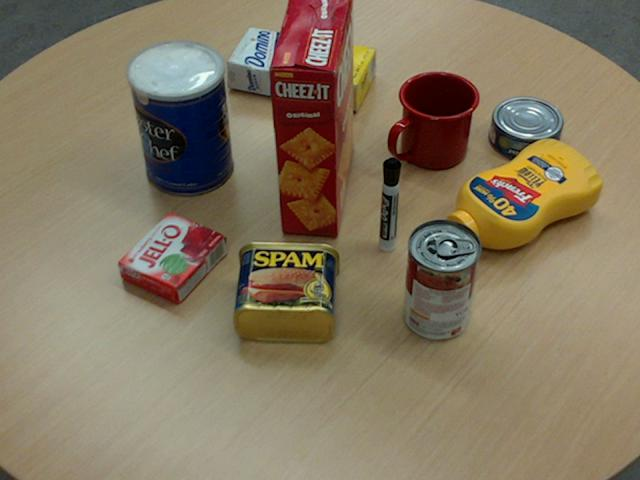cracker_box: (267, 0, 356, 236)
gelatin_box: (117, 210, 226, 302)
large_marker: (380, 158, 400, 252)
master_chef_can: (127, 40, 232, 196)
mug: (388, 71, 479, 169)
mustard_bottle: (437, 139, 600, 249)
potted_meat_can: (232, 240, 338, 341)
sugar_box: (225, 26, 376, 110)
tomato_soup_can: (402, 218, 480, 340)
tuna_fish_can: (488, 96, 562, 161)
